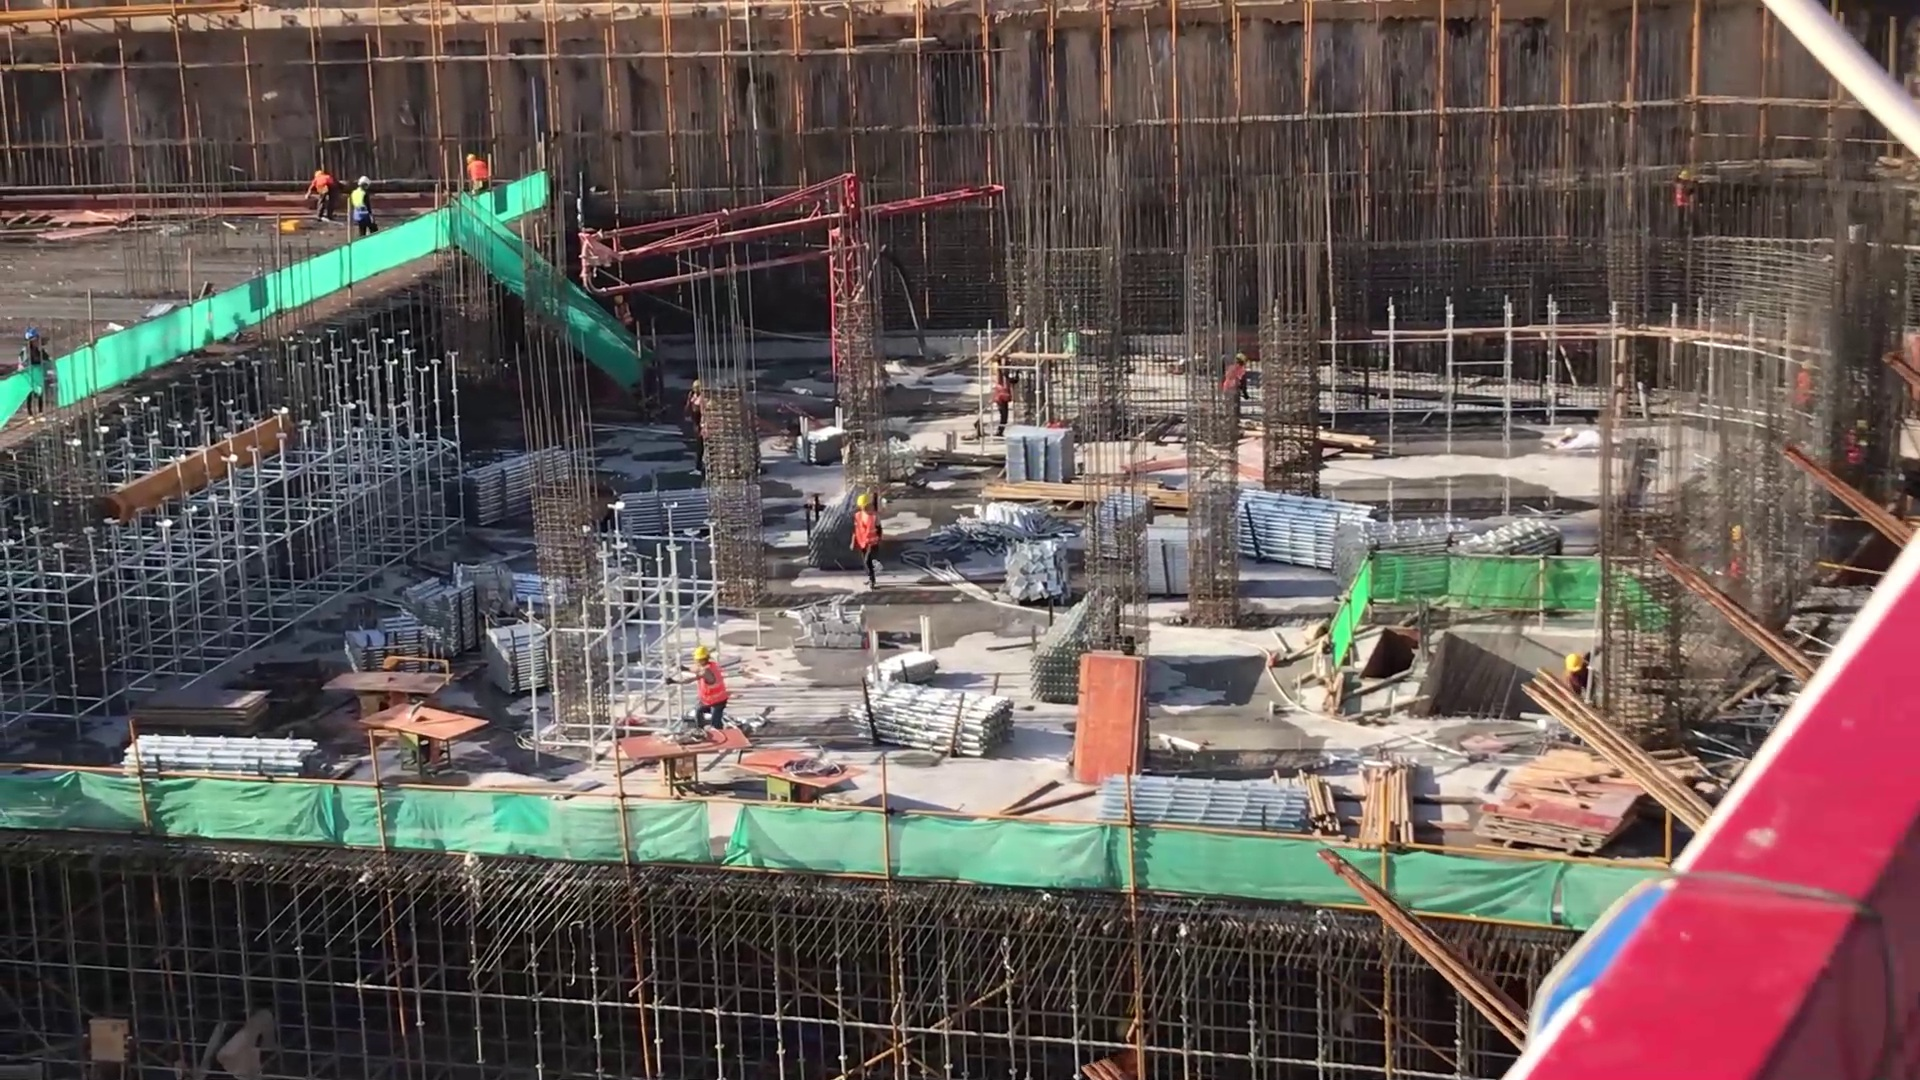board: (1492, 742, 1613, 859), (1078, 647, 1147, 783), (363, 702, 477, 753), (139, 677, 252, 726), (330, 662, 452, 700)
helmet: (853, 491, 882, 518), (1557, 651, 1588, 676), (689, 642, 709, 666), (458, 149, 479, 166), (355, 170, 370, 192), (1231, 350, 1251, 367), (24, 325, 40, 340)
person: (847, 492, 886, 592), (685, 644, 728, 732), (301, 164, 339, 222), (346, 174, 380, 235), (1557, 648, 1597, 698), (991, 375, 1014, 441), (1223, 352, 1251, 400), (19, 325, 49, 367), (463, 150, 492, 193), (608, 292, 636, 331), (685, 378, 704, 429)
rebar: (1520, 671, 1740, 832)
scaffold: (1093, 765, 1323, 846), (839, 675, 1029, 757), (123, 728, 319, 792), (1227, 484, 1343, 567), (473, 611, 558, 701), (442, 446, 557, 507), (997, 539, 1082, 602), (395, 582, 470, 643), (996, 427, 1065, 490), (1359, 515, 1460, 558), (621, 484, 714, 524), (347, 619, 421, 655)
vest: (695, 664, 723, 708), (851, 511, 880, 551), (348, 187, 368, 220), (470, 164, 487, 182)
wood: (1363, 755, 1413, 858)
